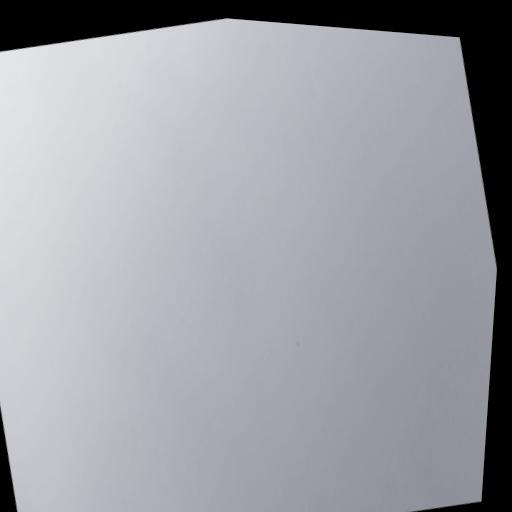drones: (295, 341, 302, 348)
